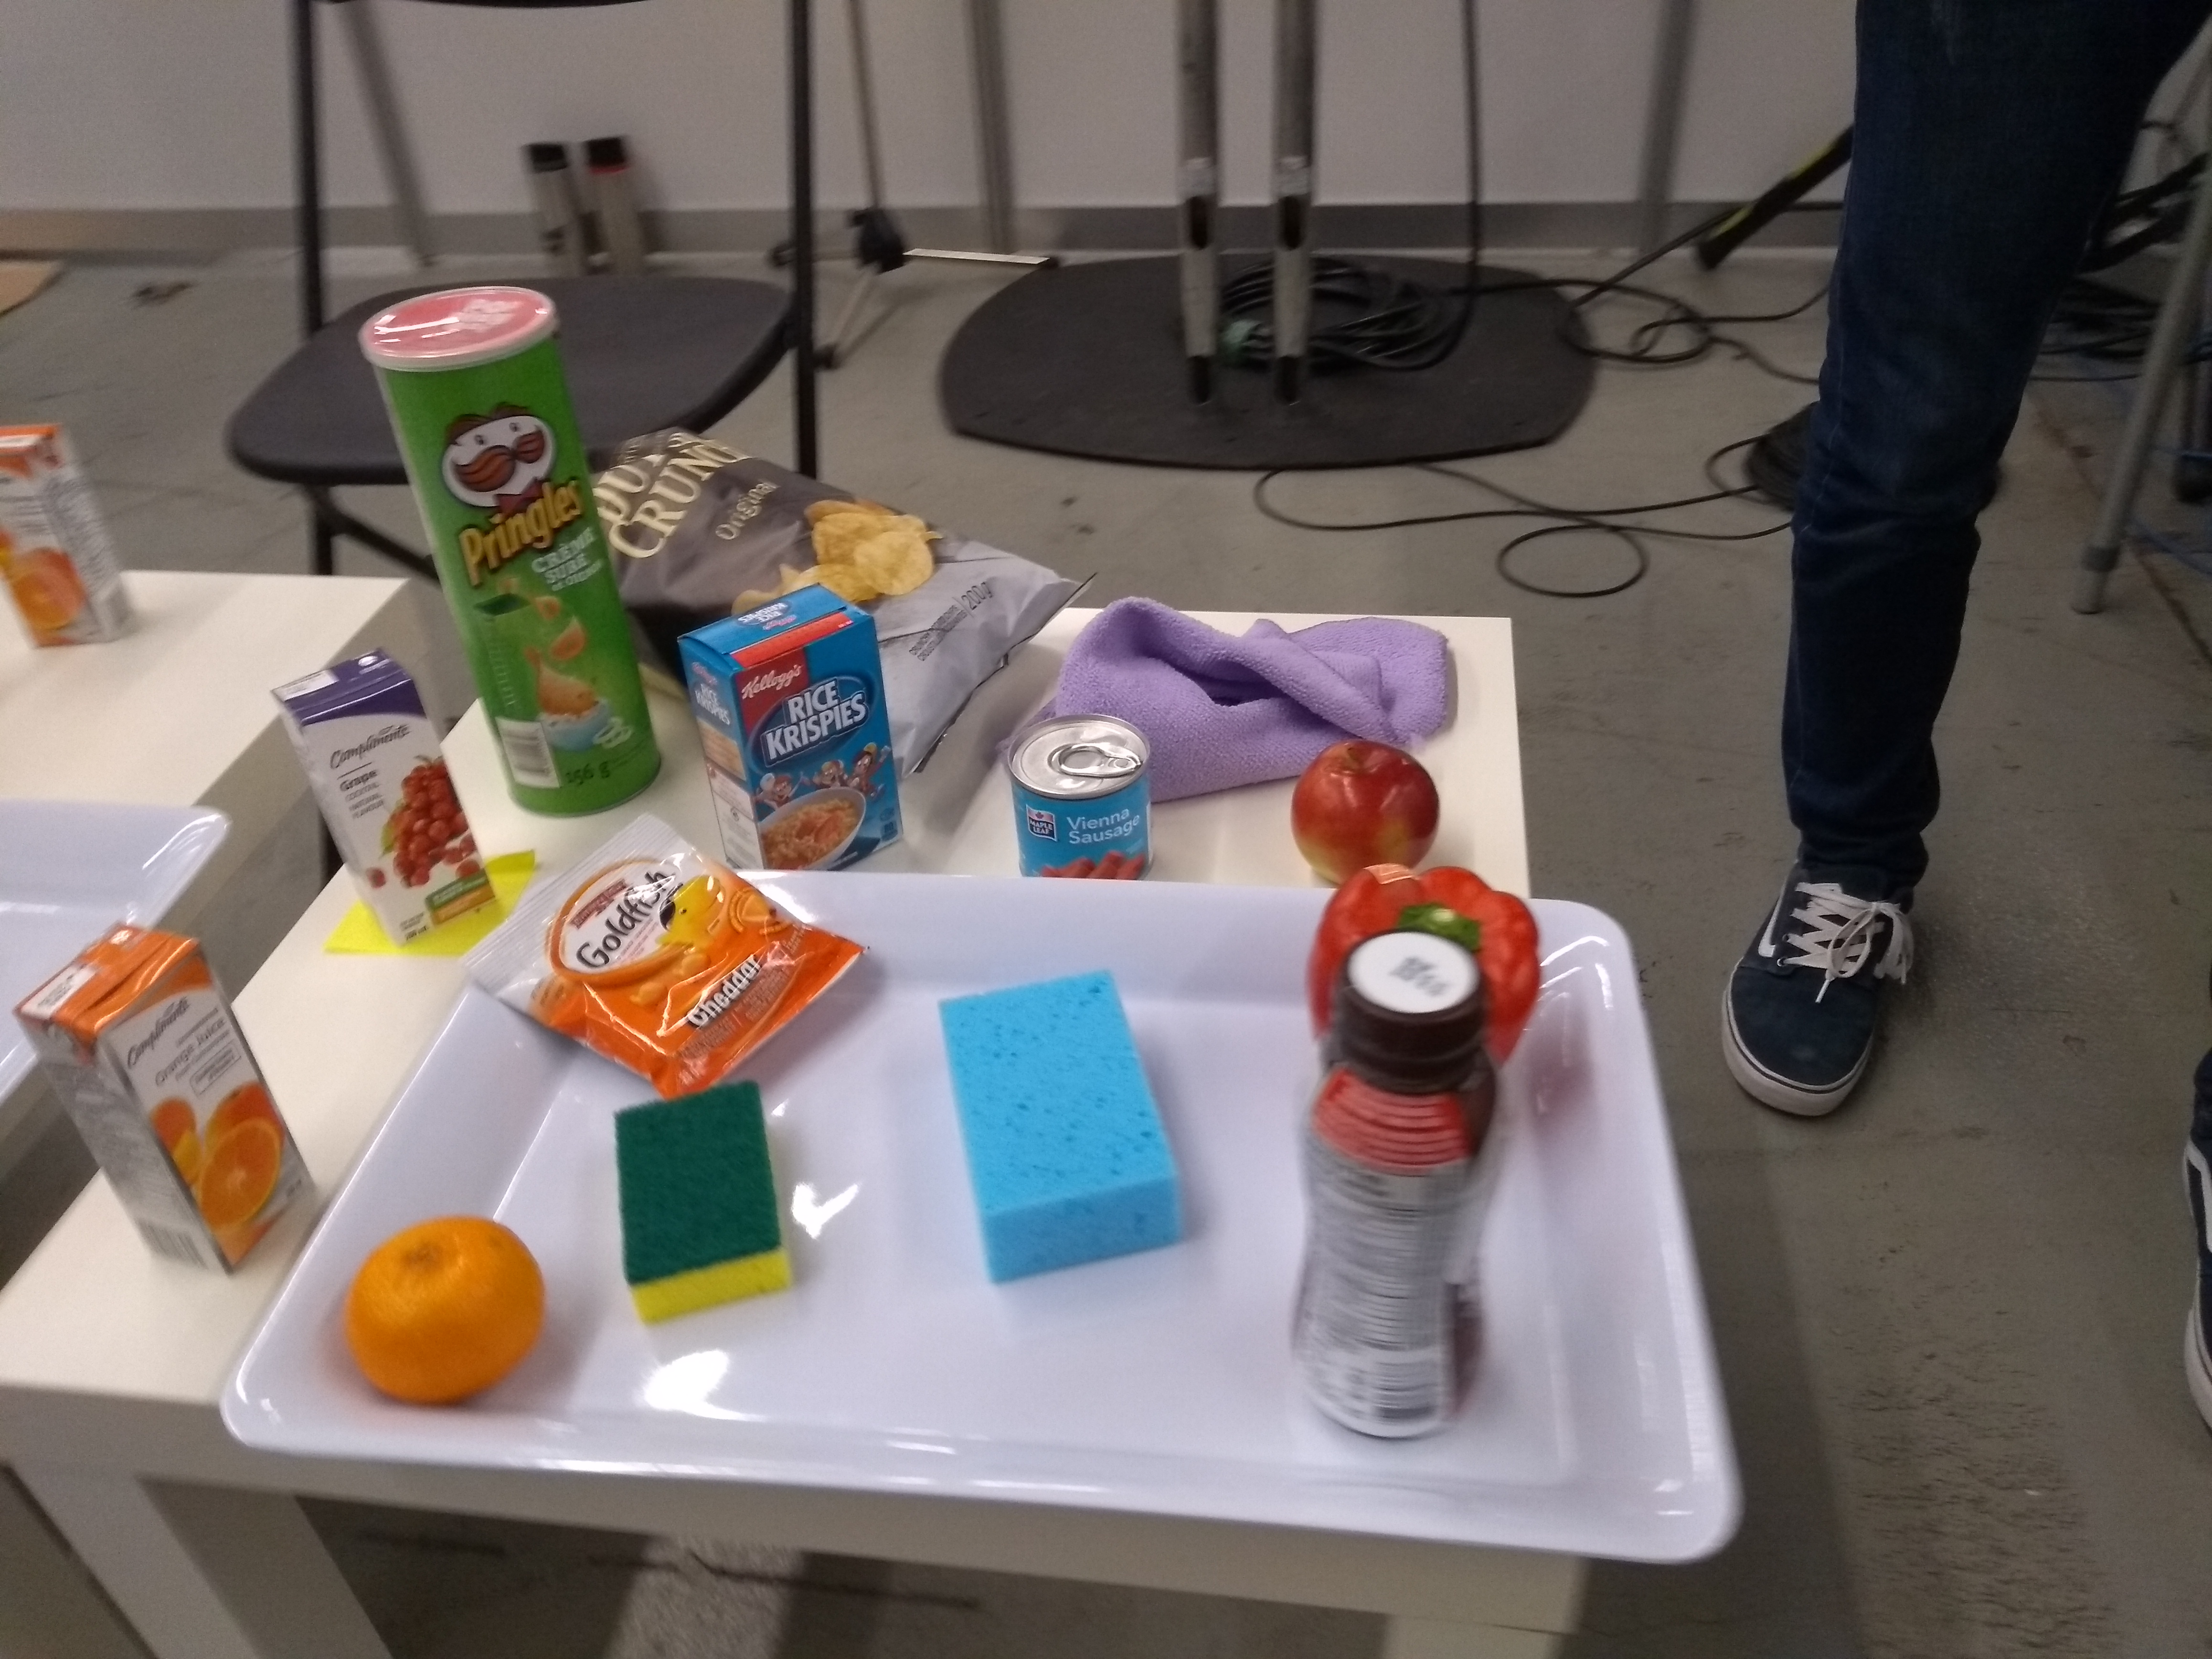apple: (1277, 732, 1447, 889)
cereal: (669, 579, 907, 894)
chocolate_drink: (1277, 920, 1521, 1453)
grape_juice: (263, 640, 510, 958)
orange: (333, 1204, 566, 1412)
orange_juice: (14, 915, 319, 1284)
pringles: (359, 279, 667, 826)
sausages: (998, 706, 1160, 897)
scrubby: (606, 1077, 805, 1335)
sponge_opl: (925, 964, 1200, 1295)
